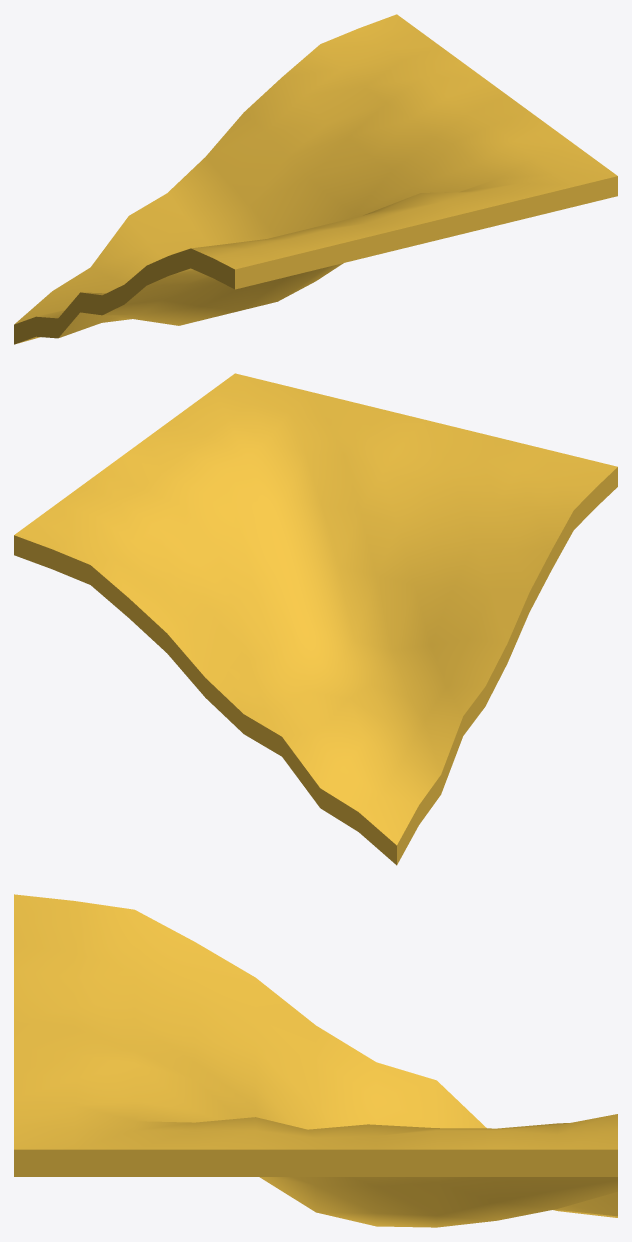
File: Steil - Unten - Ecke Invertiert b - b.fbx
3 renders of one model, top to bottom at view 1: azimuth 30°, elevation 25°; view 2: azimuth 150°, elevation 25°; view 3: azimuth 270°, elevation 25°, orthographic. The views are drawn at different scales.
Visible parts, largest first — view 1: Steil - Unten - Ecke Invertiert b - b; view 2: Steil - Unten - Ecke Invertiert b - b; view 3: Steil - Unten - Ecke Invertiert b - b.
Boxes of the visible parts, bbox=[...] form: Steil - Unten - Ecke Invertiert b - b: bbox=[14, 14, 617, 344]; Steil - Unten - Ecke Invertiert b - b: bbox=[14, 373, 617, 865]; Steil - Unten - Ecke Invertiert b - b: bbox=[14, 894, 617, 1227].
Bounding box in the file's own units: 394 × 233 × 394.
